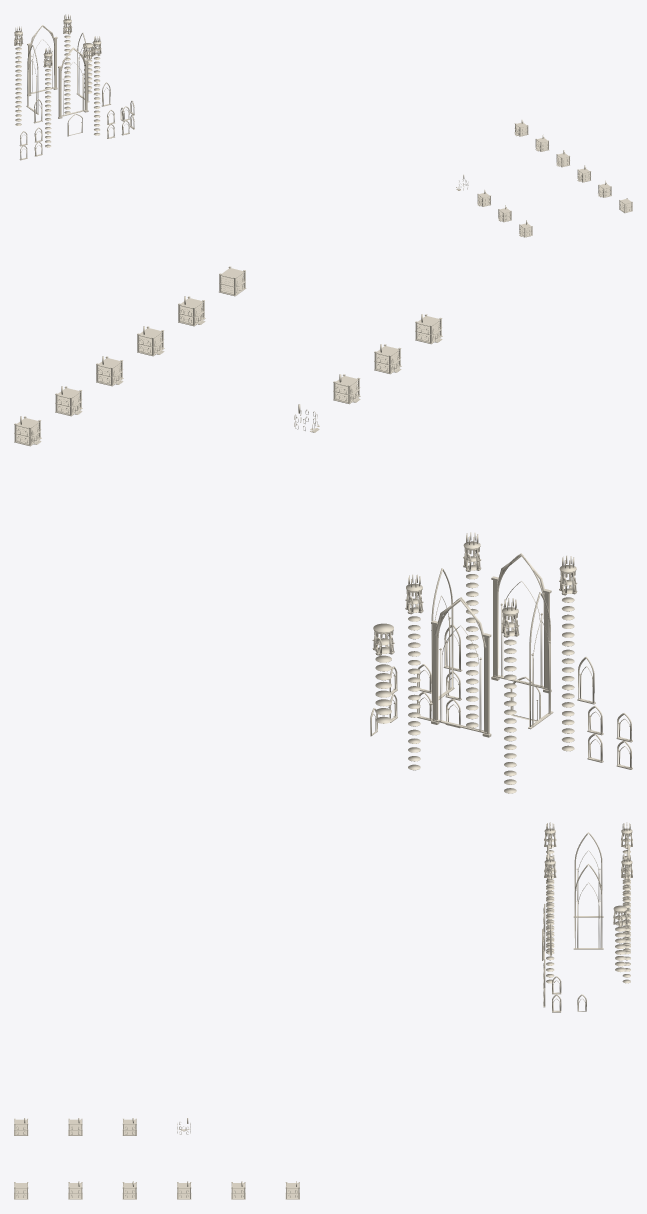
The model's file is Neris-16.glb.
3 renders of one model, top to bottom at view 1: azimuth 30°, elevation 25°; view 2: azimuth 150°, elevation 25°; view 3: azimuth 270°, elevation 25°, orthographic. The views are drawn at different scales.
Parts seen in each view (by area): view 1: Pale Carved Stone (×2); view 2: Pale Carved Stone (×2); view 3: Pale Carved Stone (×2).
Boxes of the visible parts, x1,y1,x2,y2 form: Pale Carved Stone (×2): [14, 14, 632, 237]; Pale Carved Stone (×2): [14, 266, 632, 793]; Pale Carved Stone (×2): [14, 822, 632, 1199].
Bounding box in the file's own units: 385 × 93.15 × 387.
